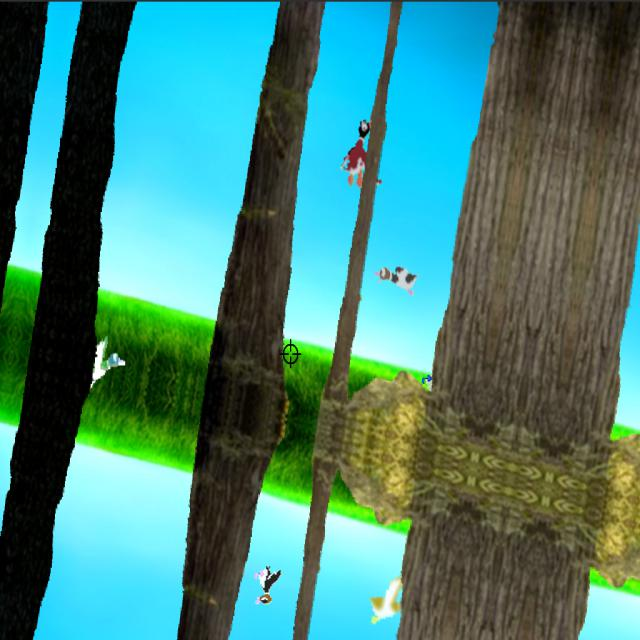duck: (340, 108, 375, 198), (85, 331, 127, 393), (367, 569, 408, 629), (373, 260, 420, 298)
falling_duck: (253, 558, 283, 606)
